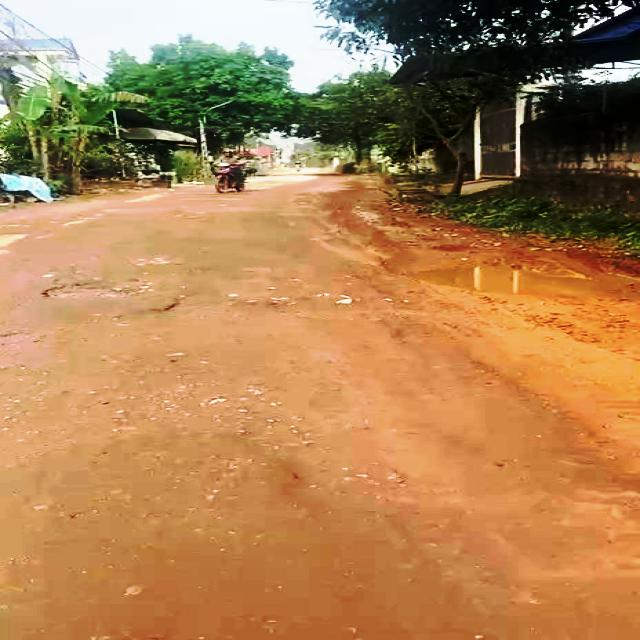pothole: (396, 254, 626, 304), (41, 280, 141, 300)
